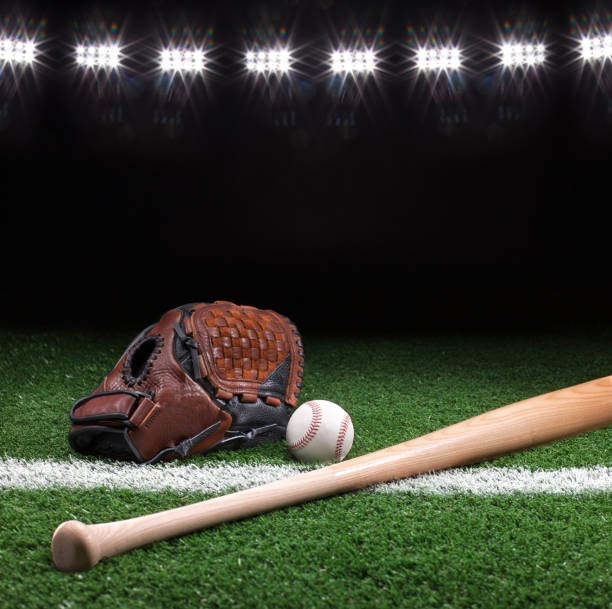bita: (43, 377, 612, 570)
